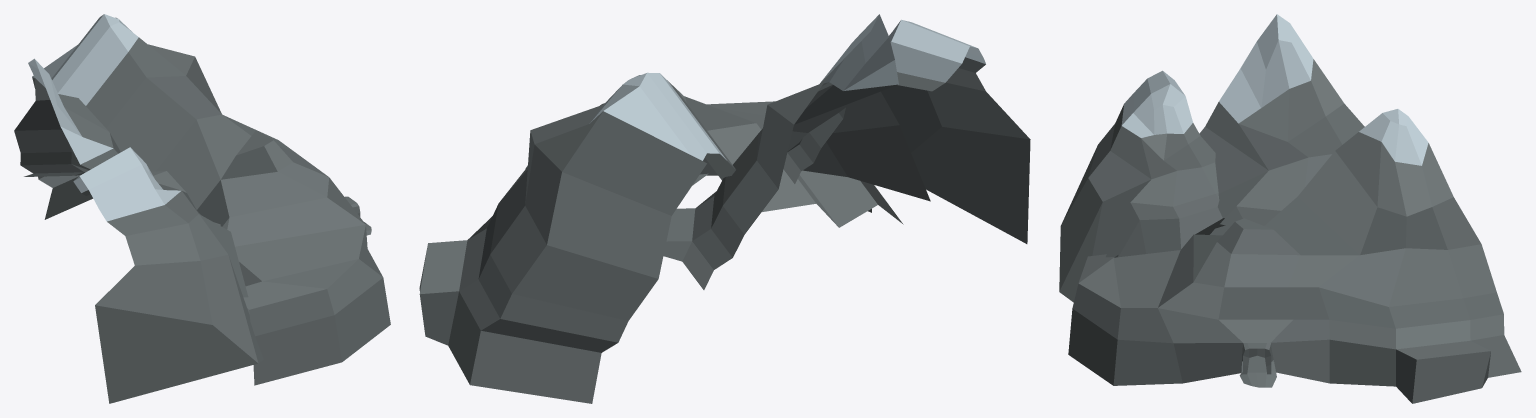
The model's file is cave.dae.
The picture shows the model from 3 angles, left to right: view 1: azimuth 30°, elevation 25°; view 2: azimuth 150°, elevation 25°; view 3: azimuth 270°, elevation 25°; orthographic projection. The views are drawn at different scales.
Visible parts, largest first — view 1: Cube.002; view 2: Cube.002; view 3: Cube.002.
Boxes of the visible parts, x1,y1,x2,y2 form: Cube.002: (14,14,390,403); Cube.002: (419,14,1030,403); Cube.002: (1059,14,1521,403).
Bounding box in the file's own units: 27.58 × 32.76 × 20.38.
